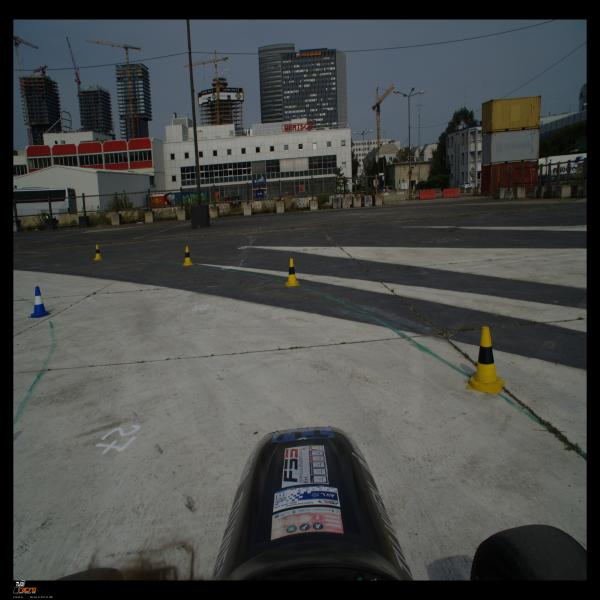blue_cone: (28, 286, 51, 318)
yellow_cone: (466, 326, 505, 394), (285, 258, 300, 287), (182, 246, 194, 266), (94, 245, 103, 260)
